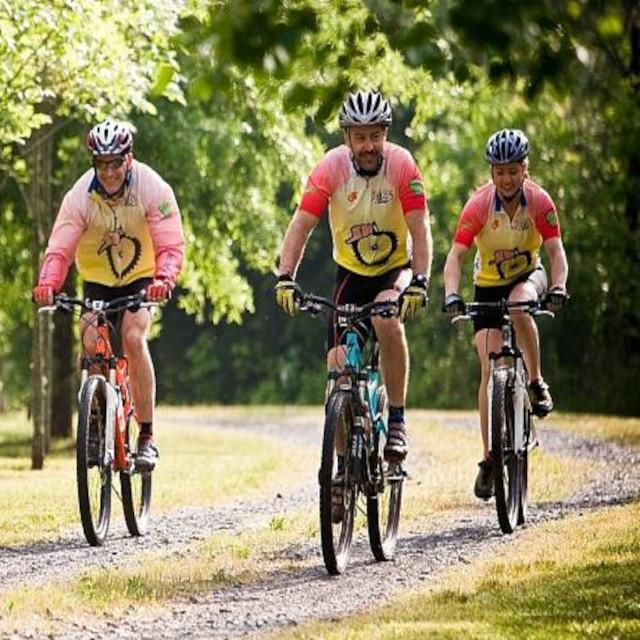kobieta: (461, 124, 571, 482)
mezczyzna: (274, 96, 431, 461), (40, 108, 192, 469)
